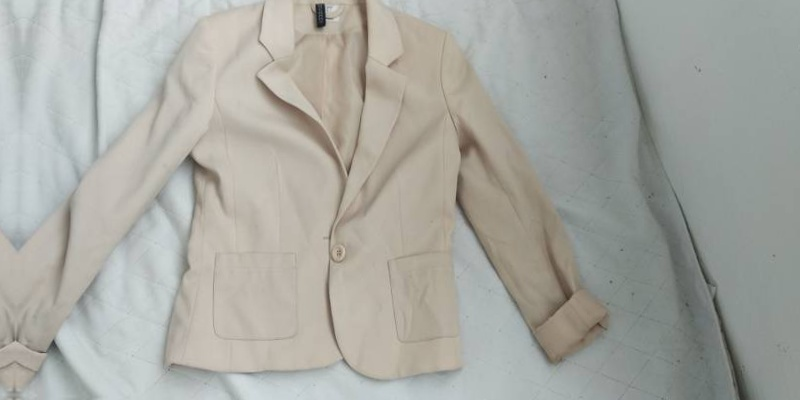Blazer: (15, 0, 618, 400), (0, 0, 23, 385), (0, 390, 12, 400)
